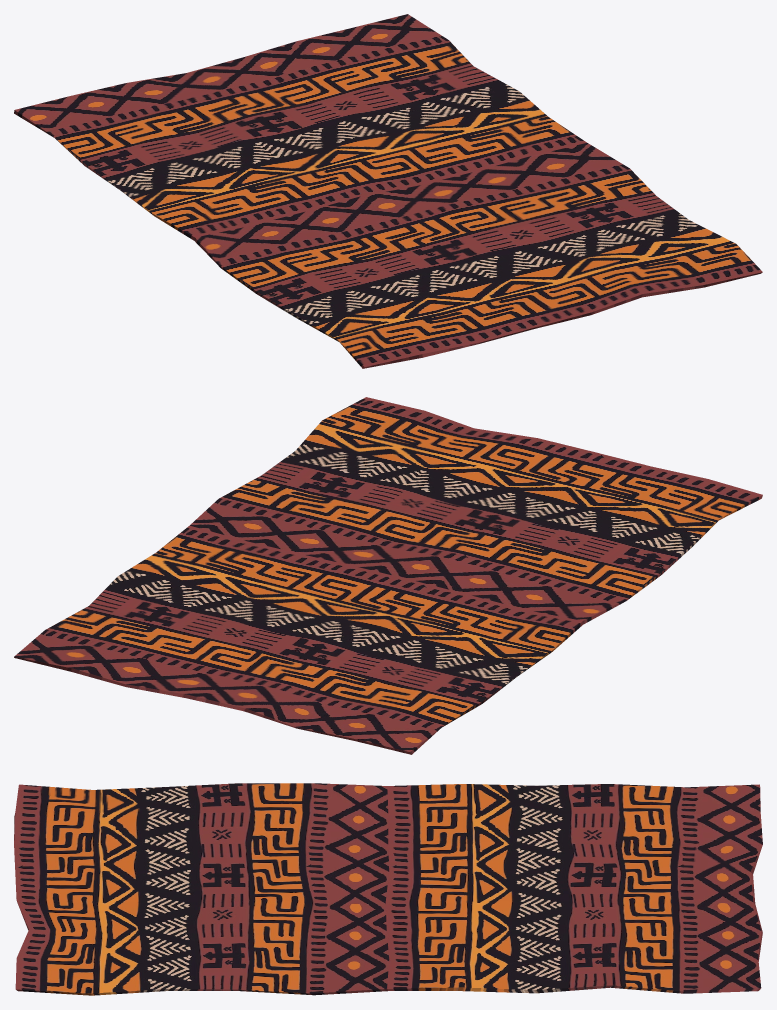
Rendered from carpetA.fbx.
3 renders of one model, top to bottom at view 1: azimuth 30°, elevation 25°; view 2: azimuth 150°, elevation 25°; view 3: azimuth 270°, elevation 25°, orthographic. The views are drawn at different scales.
Parts seen in each view (by area): view 1: Carpet 2; view 2: Carpet 2; view 3: Carpet 2.
Part boxes in pixels (box(x1,y1,x2,y2)): Carpet 2: box(14, 14, 762, 368); Carpet 2: box(14, 397, 762, 754); Carpet 2: box(14, 783, 762, 995).
Size of the model in its own units: 282 by 2.85 by 423.
1 material, 1 textured.
